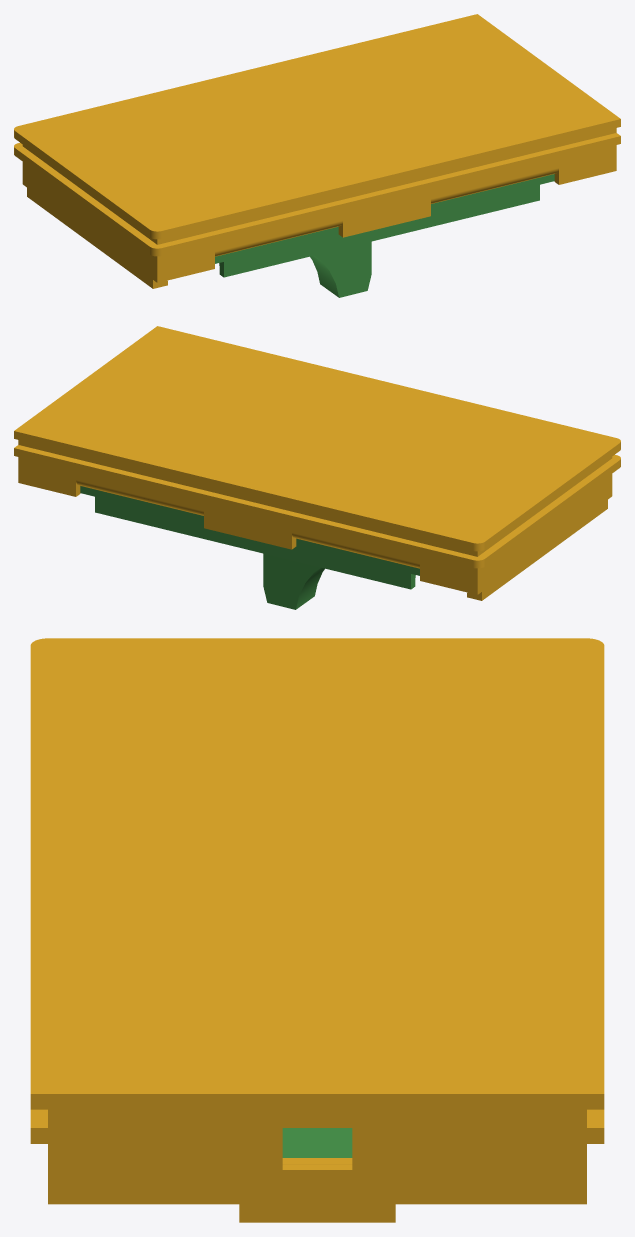
Rendered from Standardised-Drone-Pig-Housing-With-DJI-Mavic2-Snap-Connection-Plate.fbx.
The picture shows the model from 3 angles, top to bottom: view 1: azimuth 30°, elevation 25°; view 2: azimuth 150°, elevation 25°; view 3: azimuth 270°, elevation 25°; orthographic projection. The views are drawn at different scales.
Parts seen in each view (by area): view 1: Body1 (×2); view 2: Body1 (×2); view 3: Body1 (×2).
Boxes of the visible parts, box(x1,y1,x2,y2) form: Body1 (×2): box(14, 14, 620, 297); Body1 (×2): box(14, 326, 620, 609); Body1 (×2): box(30, 638, 604, 1222).
Size of the model in its own units: 186 by 47 by 99.
